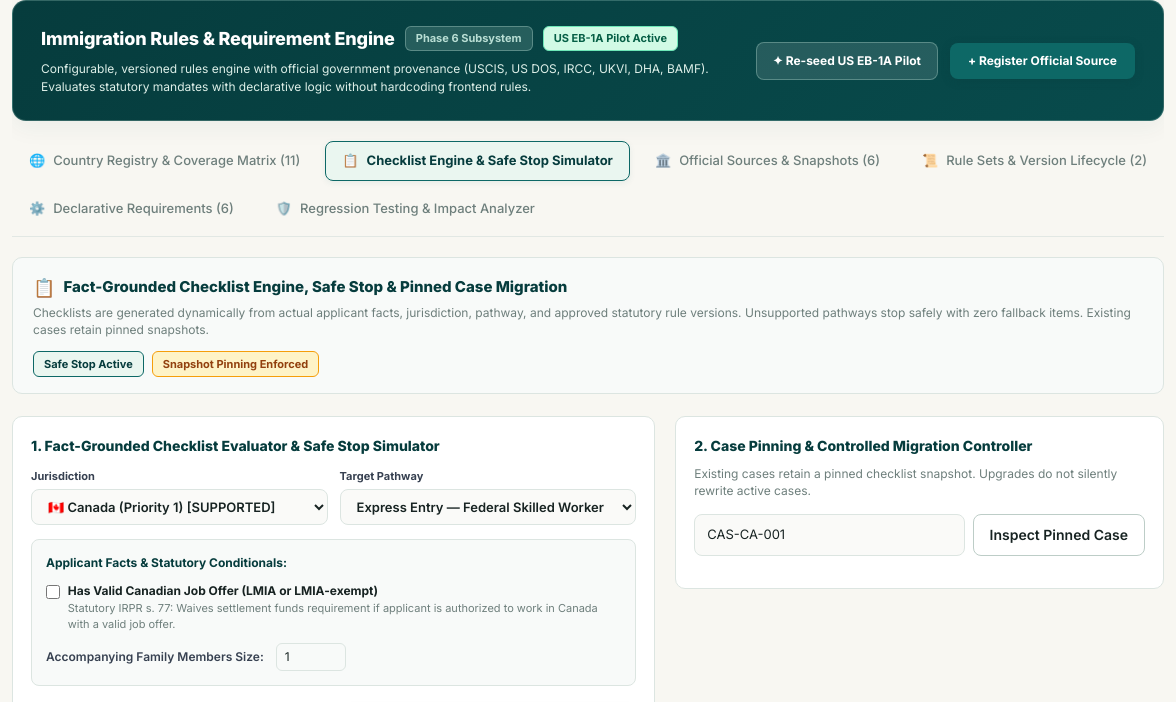
Test: Phase 12 — Country and Pathway Expansion Architecture › RuleAdministrationHub Component — Checklist Engine & Safe Stop Simulator › enforces safe stop with zero checklist items when simulating unverified jurisdiction
Change jurisdiction to France (FR)
Select "🇫🇷 France (Priority 4) [UNVERIFIED]" in the dropdown with test id "sim-jurisdiction-select": (179, 507) [31,489,328,525]
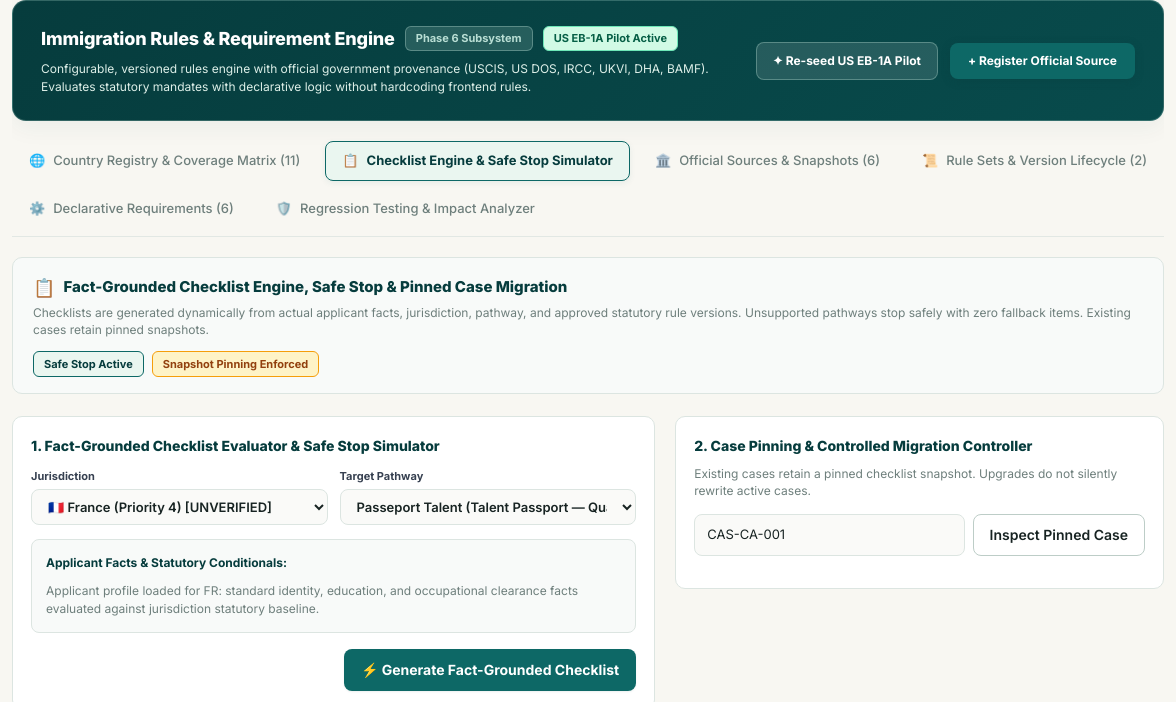
Generate checklist
Click the button "⚡ Generate Fact-Grounded Checklist": (490, 670) [344,649,636,691]
(page scrolled)
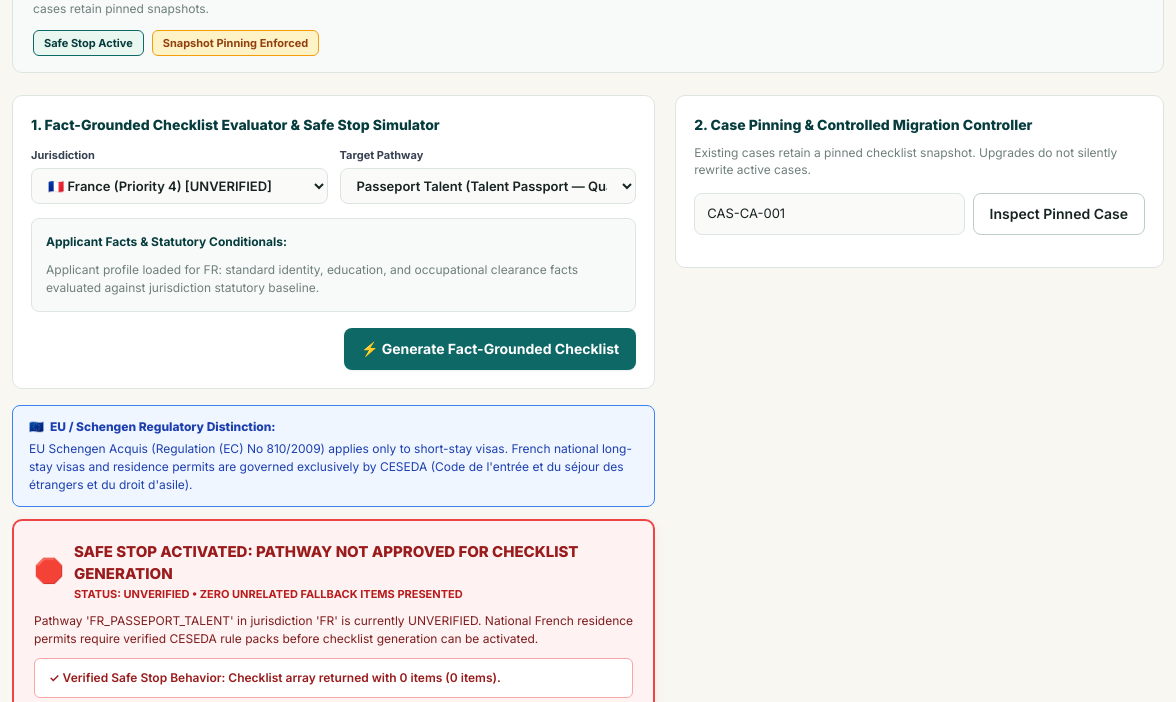
Check: the text "SAFE STOP ACTIVATED: PATHWAY NOT APPROVED" is shown, box [74,542,578,583]
Check: the text "Status: UNVERIFIED • Zero Unrelated Fallback Items Presented" is shown, box [74,587,463,601]
Check: the element with test id "eu-schengen-notice-banner" is shown, box [12,405,655,507]
